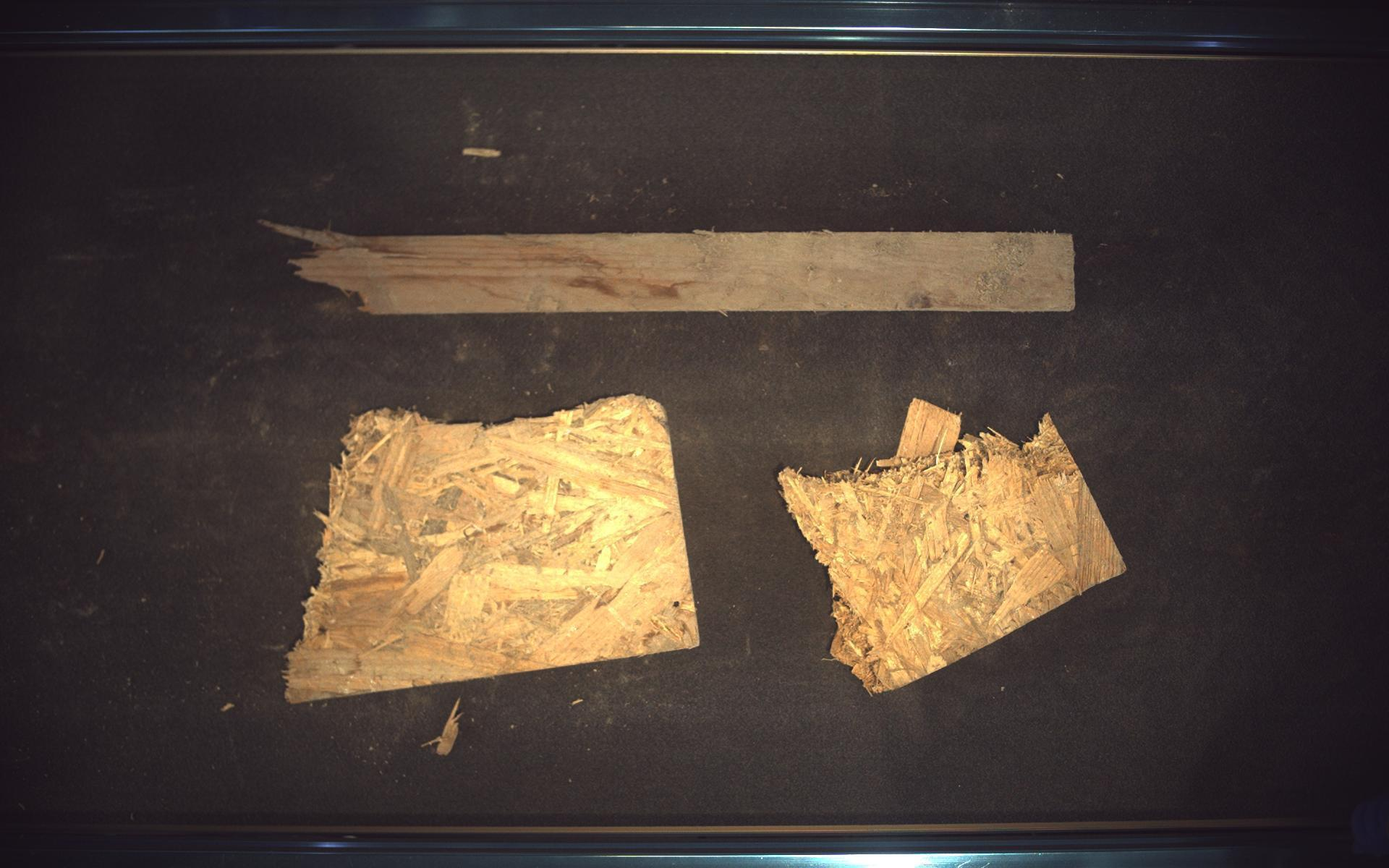wood: (286, 394, 700, 703), (780, 399, 1129, 694), (264, 221, 1077, 314)
